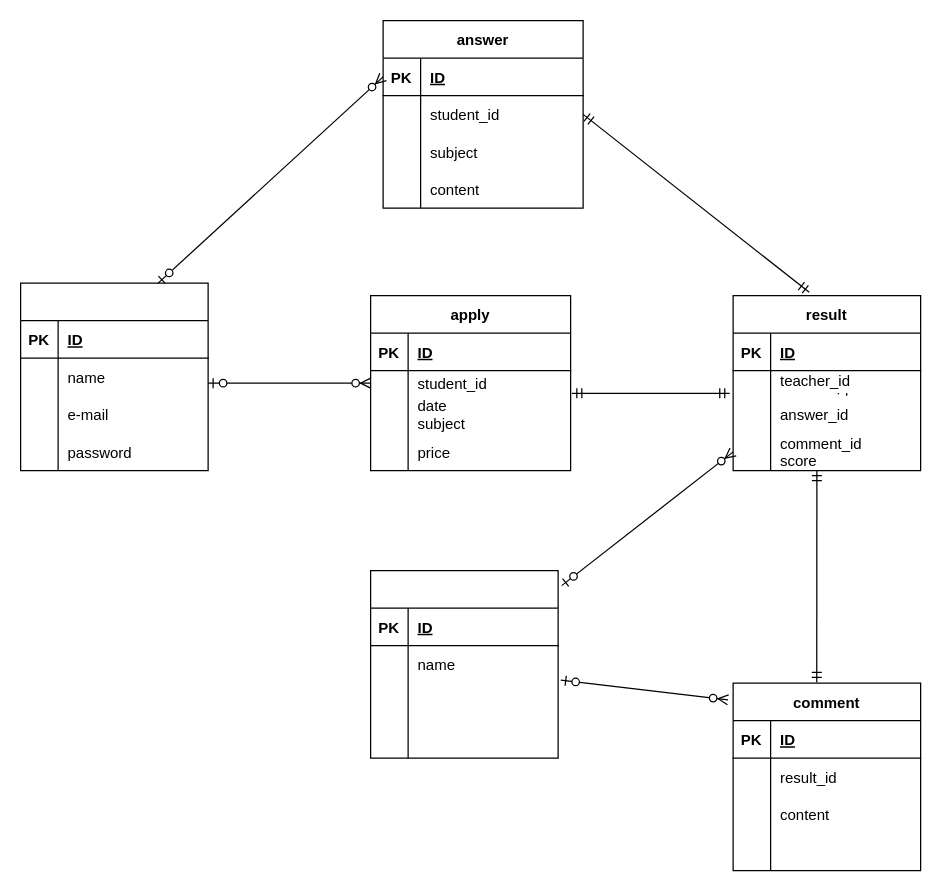
The diagram is 941 pixels wide and 891 high, and some of its shapes have lost their labels. Each missing label, with the box of its shape:
student: (19, 282, 208, 471)
teacher: (369, 569, 558, 758)
